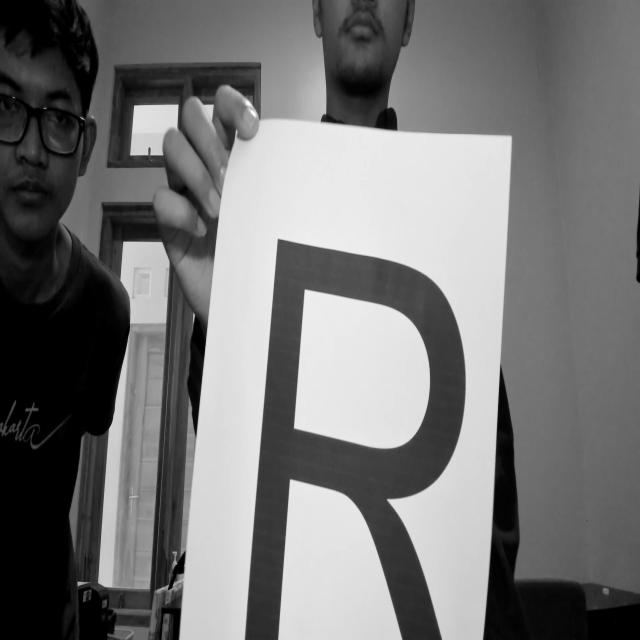r: (234, 208, 476, 640)
